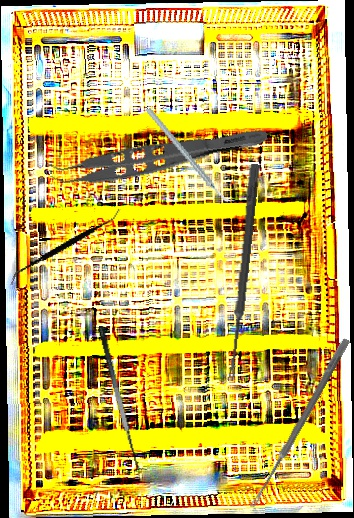Chopper: (144, 92, 236, 219)
Spatula Surgical: (9, 179, 122, 315), (96, 322, 150, 474)
Surgical Spoon: (248, 336, 351, 511), (226, 163, 260, 382)
Tissue Forceps: (45, 108, 270, 197)
